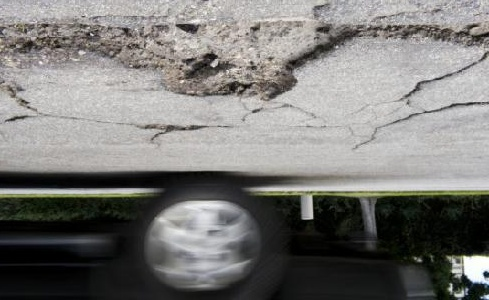pothole: (77, 14, 363, 105)
